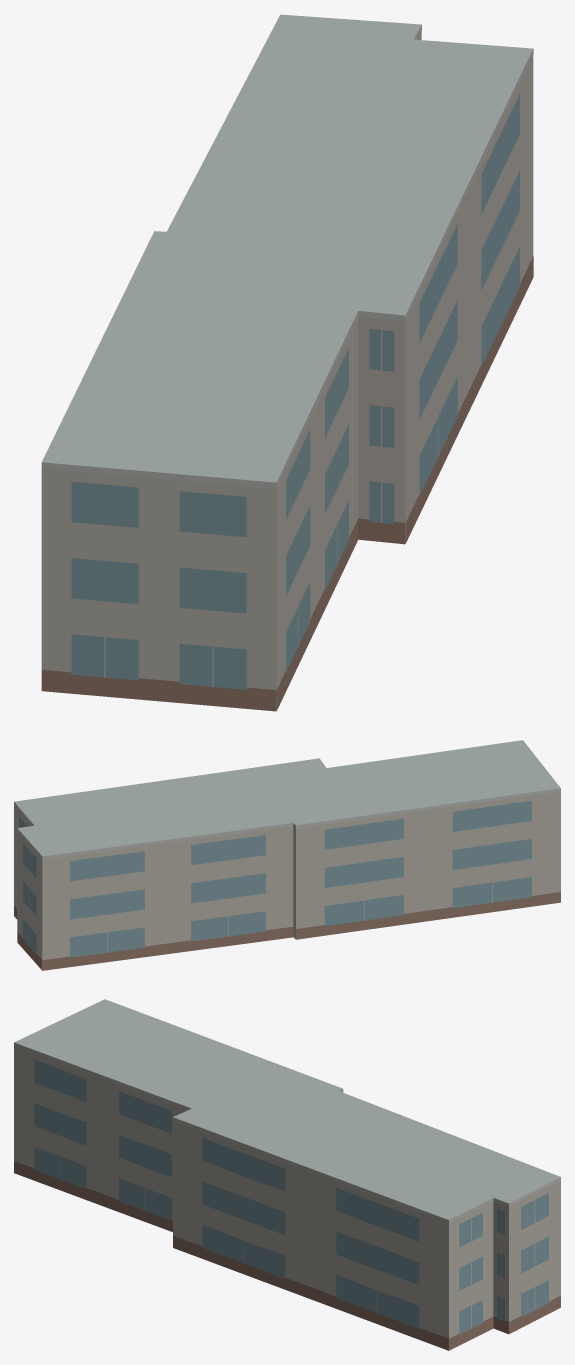
File: survey-upis-32743250.glb
3 views of the same model, one above another, from view 1: azimuth 30°, elevation 25°; view 2: azimuth 150°, elevation 25°; view 3: azimuth 270°, elevation 25° (orthographic). The views are drawn at different scales.
Parts seen in each view (by area): view 1: survey-upis-32743250.tmp; view 2: survey-upis-32743250.tmp; view 3: survey-upis-32743250.tmp.
Part boxes in pixels (box(x1,y1,x2,y2)): survey-upis-32743250.tmp: box(41, 14, 533, 711); survey-upis-32743250.tmp: box(14, 740, 560, 970); survey-upis-32743250.tmp: box(14, 999, 560, 1350).
Bounding box in the file's own units: 33.18 × 9.15 × 34.7.
